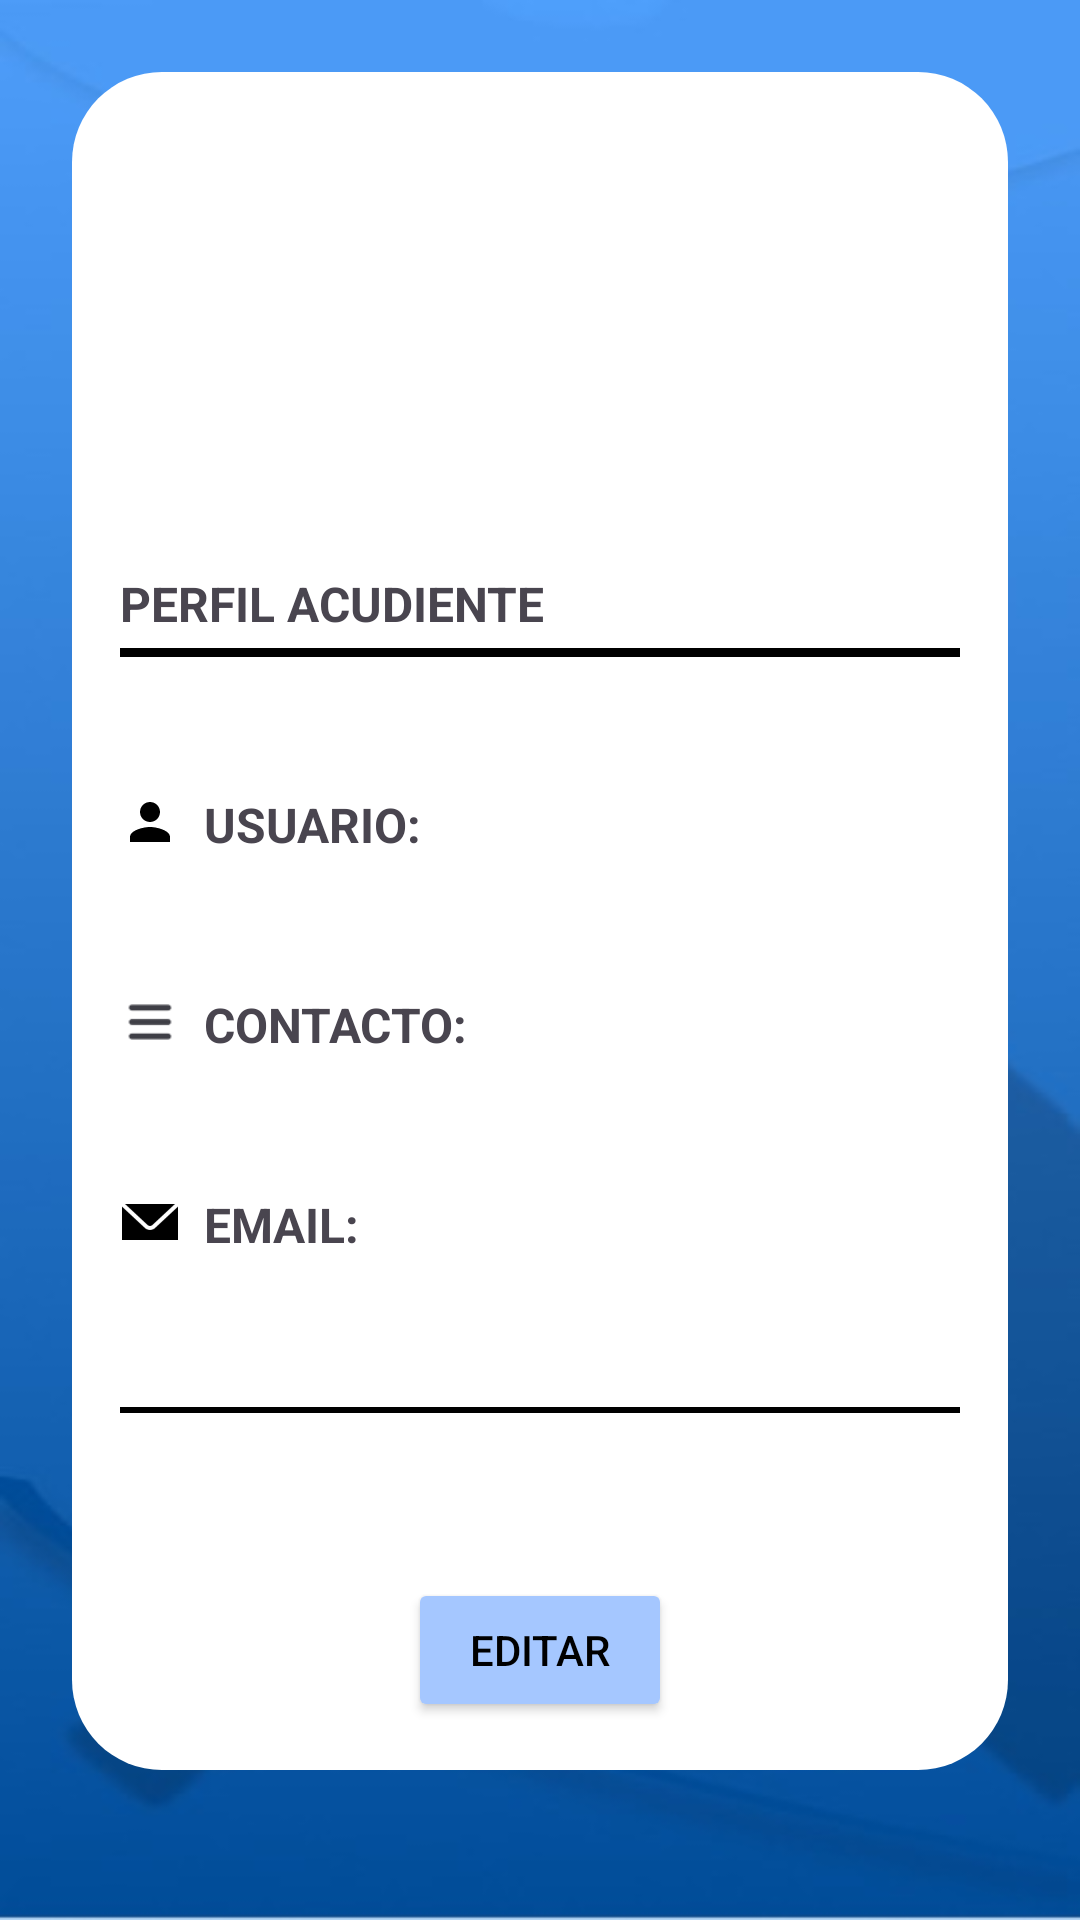

Screen size 1080 x 1920. Icon name, then its box in pixels as (x1, y1, x2, y2):
user: (130, 802, 170, 842)
